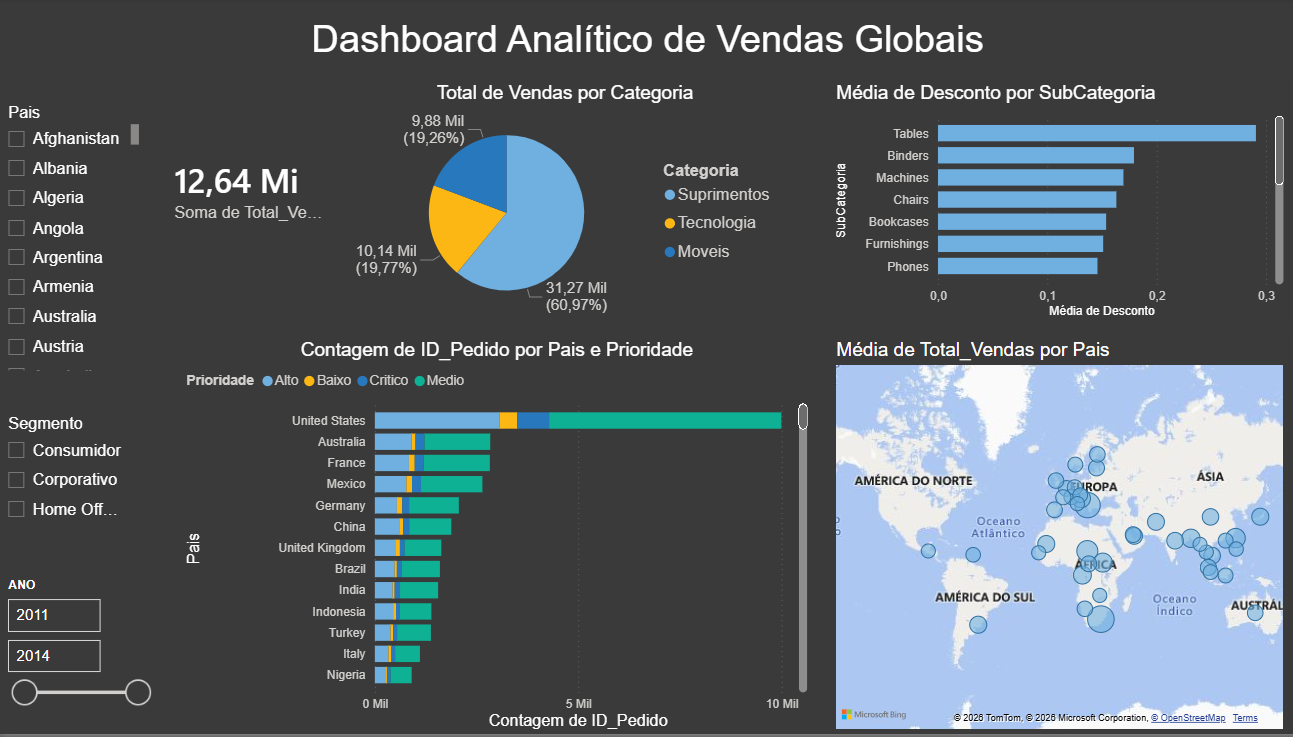

This screenshot's page, from the dashboard's own definition file:
{"tool":"powerbi","page":{"name":"Página 1","canvas":[1280,720],"ordinal":0},"visuals":[{"type":"cardVisual","fields":{"Data":["Sum(dataset.Total_Vendas)"]},"box":[145.5,97.8,207.9,178.5],"z":0},{"type":"pieChart","title":"Total de Vendas por Categoria","fields":{"Category":["dataset.Categoria"],"Y":["CountNonNull(dataset.ID_Pedido)"]},"box":[342.4,81.9,430.4,236],"z":1000},{"type":"barChart","fields":{"Category":["dataset.Pais"],"Y":["CountNonNull(dataset.ID_Pedido)"],"Series":["dataset.Prioridade"]},"box":[182.5,333.4,617.5,387],"z":2000},{"type":"clusteredBarChart","fields":{"Category":["dataset.SubCategoria"],"Y":["Avg(dataset.Desconto)"]},"box":[818.1,81.9,447.6,236],"z":3000},{"type":"map","fields":{"Category":["dataset.Pais"],"Size":["Avg(dataset.Total_Vendas)"]},"box":[817.8,333.4,447.3,387],"z":4000},{"type":"slicer","fields":{"Values":["dataset.Pais"]},"box":[0,97.4,145.5,271.7],"z":4001},{"type":"slicer","fields":{"Values":["dataset.Segmento"]},"box":[0,402.1,129,124.9],"z":4002},{"type":"slicer","fields":{"Values":["dataset.Data_Pedido.Variation.Hierarquia de datas.Ano"]},"box":[0,562.6,160.5,148.2],"z":4003},{"type":"textbox","box":[304.6,13.7,669.6,54.9],"z":4004}]}

Visuals, with their boxes in screenshot pixels (x1, y1, x2, y2), scaled from the page's 1280x720 canvas onto the 1293x737 screenshot:
cardVisual - Sum(dataset.Total_Vendas): 147,100,357,283
"Total de Vendas por Categoria" pieChart: 346,84,781,325
barChart - dataset.Pais x CountNonNull(dataset.ID_Pedido): 184,341,808,736
clusteredBarChart - dataset.SubCategoria x Avg(dataset.Desconto): 826,84,1279,325
map - dataset.Pais x Avg(dataset.Total_Vendas): 826,341,1278,736
slicer - dataset.Pais: 0,100,147,378
slicer - dataset.Segmento: 0,412,130,539
slicer - dataset.Data_Pedido.Variation.Hierarquia de datas.Ano: 0,576,162,728
textbox: 308,14,984,70
